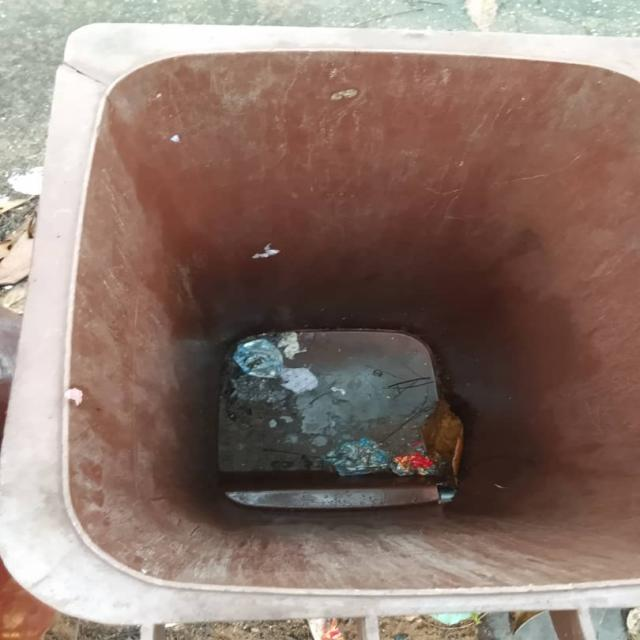empty: (23, 59, 640, 626)
